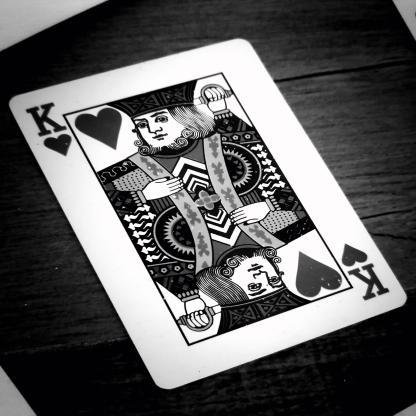KH: (328, 246, 406, 308), (20, 98, 82, 162)
